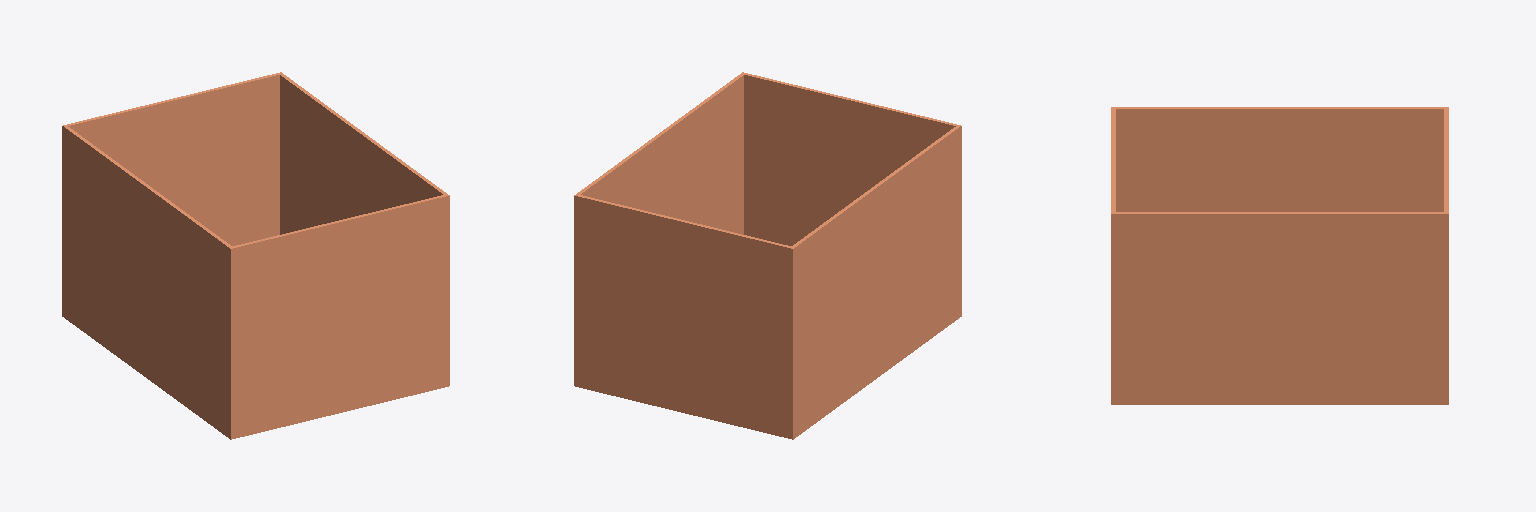
The picture shows the model from 3 angles: view 1: azimuth 30°, elevation 25°; view 2: azimuth 150°, elevation 25°; view 3: azimuth 270°, elevation 25°; orthographic projection.
Visible parts, largest first — view 1: Collection_Box_Collection_Box; view 2: Collection_Box_Collection_Box; view 3: Collection_Box_Collection_Box.
Part boxes in pixels (x1,y1,x2,y2): Collection_Box_Collection_Box: (62,72,449,439); Collection_Box_Collection_Box: (574,72,961,439); Collection_Box_Collection_Box: (1111,107,1448,404).
Bounding box in the file's own units: 300 × 250 × 400.